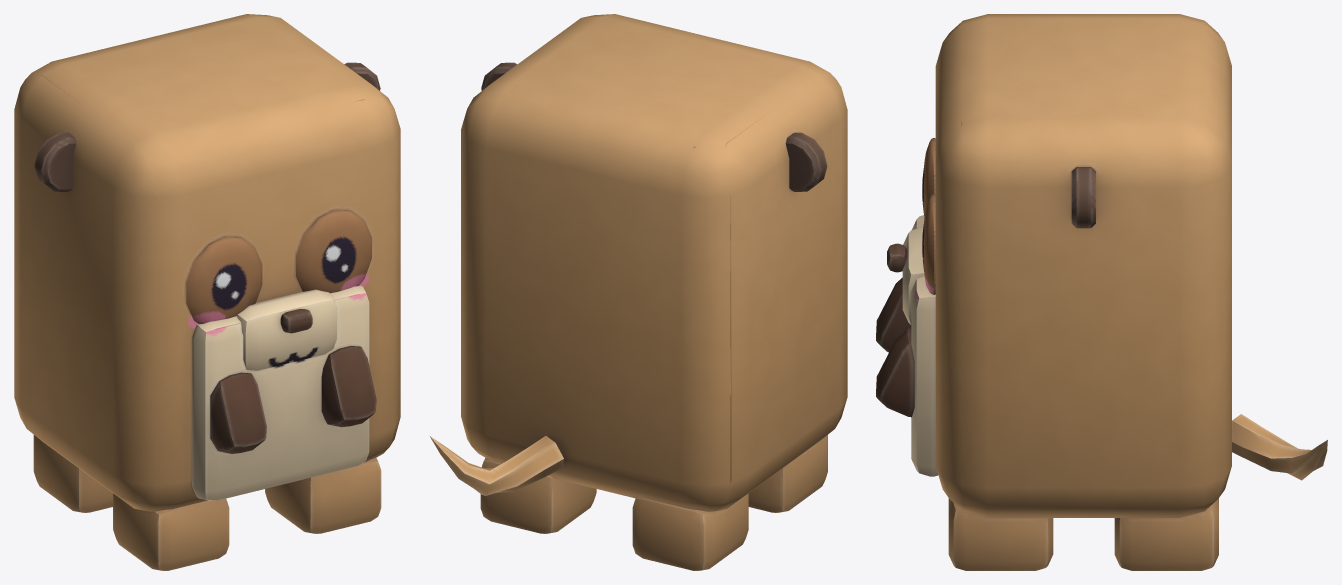
Rendered from Meerkat.fbx.
3 renders of one model, left to right at view 1: azimuth 30°, elevation 25°; view 2: azimuth 150°, elevation 25°; view 3: azimuth 270°, elevation 25°, orthographic. The views are drawn at different scales.
Parts seen in each view (by area): view 1: Meerkat; view 2: Meerkat; view 3: Meerkat.
Boxes of the visible parts, x1=… form: Meerkat: x1=14, y1=14, x2=400, y2=570; Meerkat: x1=430, y1=14, x2=847, y2=570; Meerkat: x1=876, y1=14, x2=1327, y2=570.
Size of the model in its own units: 235 by 285 by 259.
1 material, 1 textured.
